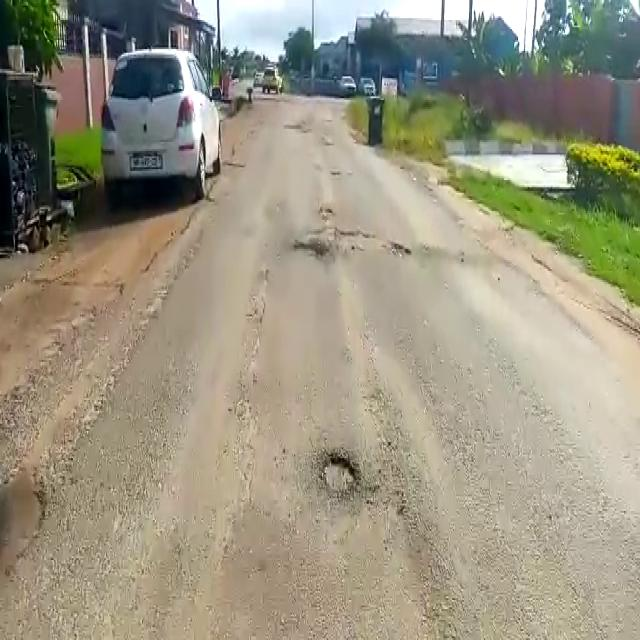Pothole: (333, 230, 412, 258), (319, 452, 361, 502), (289, 238, 331, 260)
